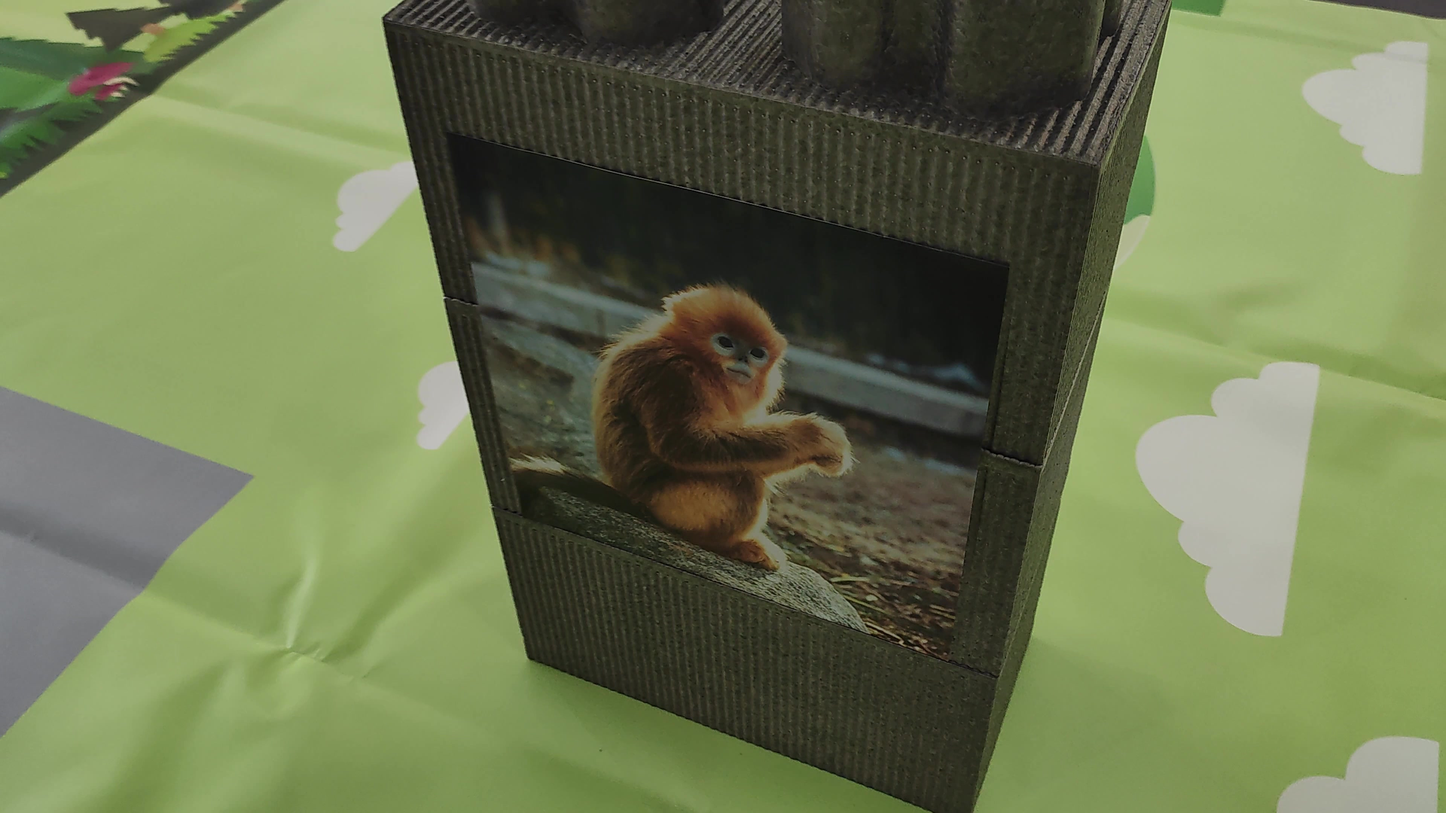monkey: (519, 182, 914, 574)
